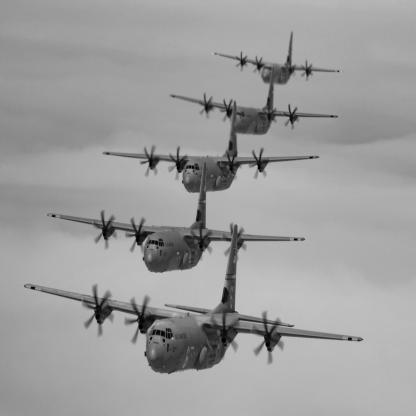C130: (24, 224, 364, 375), (47, 163, 306, 275), (103, 101, 321, 194), (170, 66, 340, 137), (213, 31, 344, 86)
